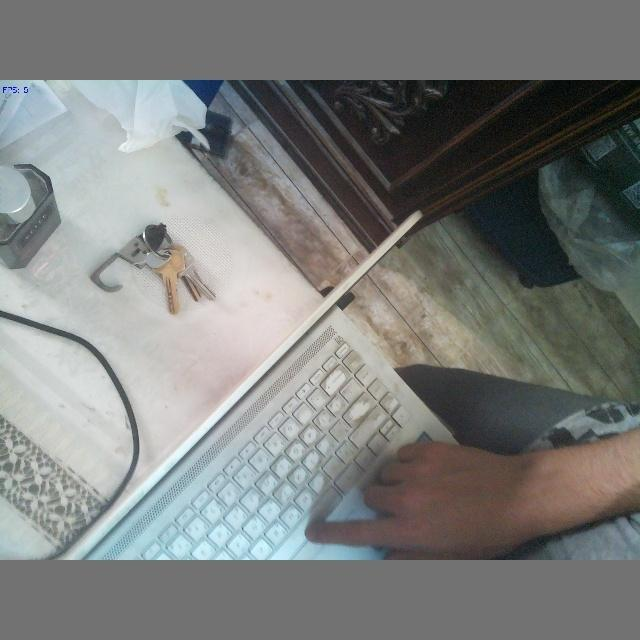Keys: (82, 215, 222, 317)
